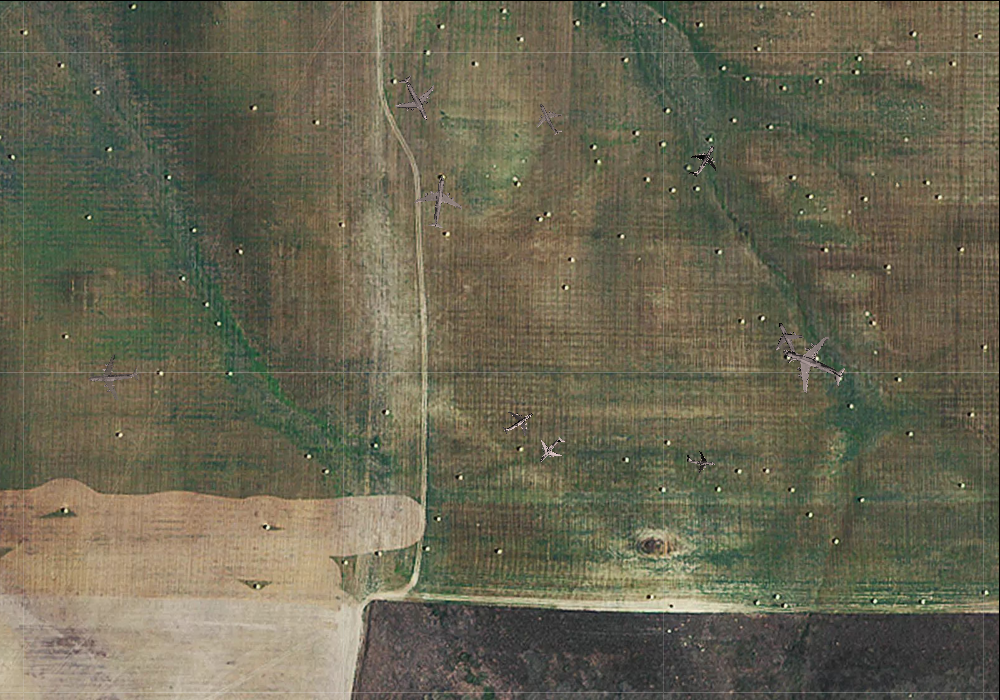plane: (771, 322, 855, 405), (384, 66, 446, 129), (410, 172, 466, 231), (85, 350, 140, 403), (761, 315, 813, 368), (680, 136, 726, 184), (495, 399, 541, 445), (527, 95, 571, 141), (529, 428, 572, 471), (685, 447, 716, 475)
